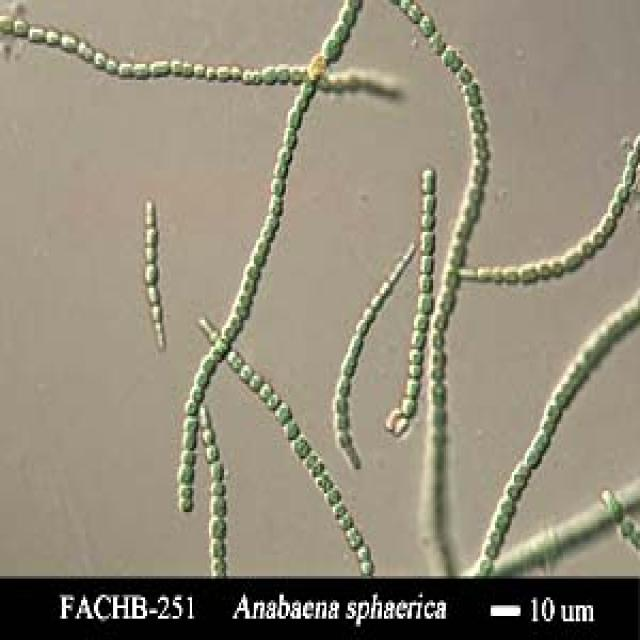Blue Green Algae: (529, 429, 550, 456), (420, 168, 440, 195), (149, 54, 171, 78), (11, 16, 30, 43), (143, 280, 164, 304), (175, 462, 196, 486), (209, 514, 230, 538), (429, 382, 450, 406), (518, 262, 538, 286), (420, 227, 440, 250), (284, 104, 303, 128), (209, 490, 228, 514), (468, 184, 487, 208), (320, 35, 341, 56), (209, 536, 230, 557), (548, 254, 566, 278), (337, 373, 354, 398), (331, 21, 350, 43), (299, 77, 318, 99), (275, 144, 297, 163), (258, 221, 277, 243), (335, 509, 354, 531), (60, 30, 77, 54), (418, 290, 435, 314), (418, 8, 433, 35), (337, 5, 358, 24), (409, 328, 428, 349), (422, 192, 438, 216), (566, 248, 582, 272), (324, 485, 344, 504), (132, 59, 150, 80), (244, 259, 262, 280), (506, 480, 524, 501), (418, 253, 435, 275), (314, 469, 331, 491), (141, 261, 160, 280), (416, 272, 435, 291), (275, 400, 290, 424), (478, 262, 493, 286), (275, 67, 292, 88), (271, 176, 288, 197), (145, 224, 162, 245), (207, 459, 224, 480), (461, 200, 478, 221), (399, 395, 416, 416), (348, 336, 365, 357), (339, 352, 356, 373), (262, 61, 278, 83), (182, 429, 198, 451), (600, 213, 616, 235), (488, 525, 504, 547), (429, 27, 444, 50), (280, 128, 298, 147), (523, 451, 542, 469), (540, 419, 559, 437), (406, 376, 422, 397), (538, 256, 550, 283), (254, 237, 271, 256), (179, 445, 196, 464), (606, 200, 623, 219), (499, 496, 516, 515), (150, 304, 167, 323), (30, 24, 45, 45), (335, 411, 350, 432), (580, 235, 595, 256), (356, 544, 371, 565), (79, 38, 92, 62), (184, 397, 198, 419), (504, 261, 518, 283), (237, 363, 254, 381), (546, 403, 563, 421), (235, 290, 254, 306), (203, 446, 222, 462), (442, 45, 458, 64), (472, 130, 491, 146), (360, 304, 376, 323), (614, 184, 630, 203), (104, 56, 118, 77), (216, 64, 230, 85), (220, 320, 234, 341), (410, 344, 424, 365), (284, 416, 298, 437), (418, 213, 435, 230), (200, 427, 216, 445), (190, 381, 203, 403), (623, 165, 636, 187), (179, 493, 194, 512), (292, 429, 303, 454), (200, 352, 213, 373), (143, 246, 160, 262), (241, 280, 258, 296), (412, 312, 429, 328), (45, 27, 60, 45), (258, 379, 273, 397), (591, 227, 606, 245), (120, 56, 134, 75), (209, 478, 226, 493), (406, 3, 420, 21), (192, 61, 205, 80), (205, 61, 218, 80), (94, 48, 104, 72), (269, 200, 284, 216), (356, 320, 371, 336), (181, 59, 194, 77), (250, 373, 262, 392), (470, 104, 484, 120), (170, 56, 183, 72), (408, 363, 424, 376), (196, 371, 207, 389), (230, 62, 241, 78)
